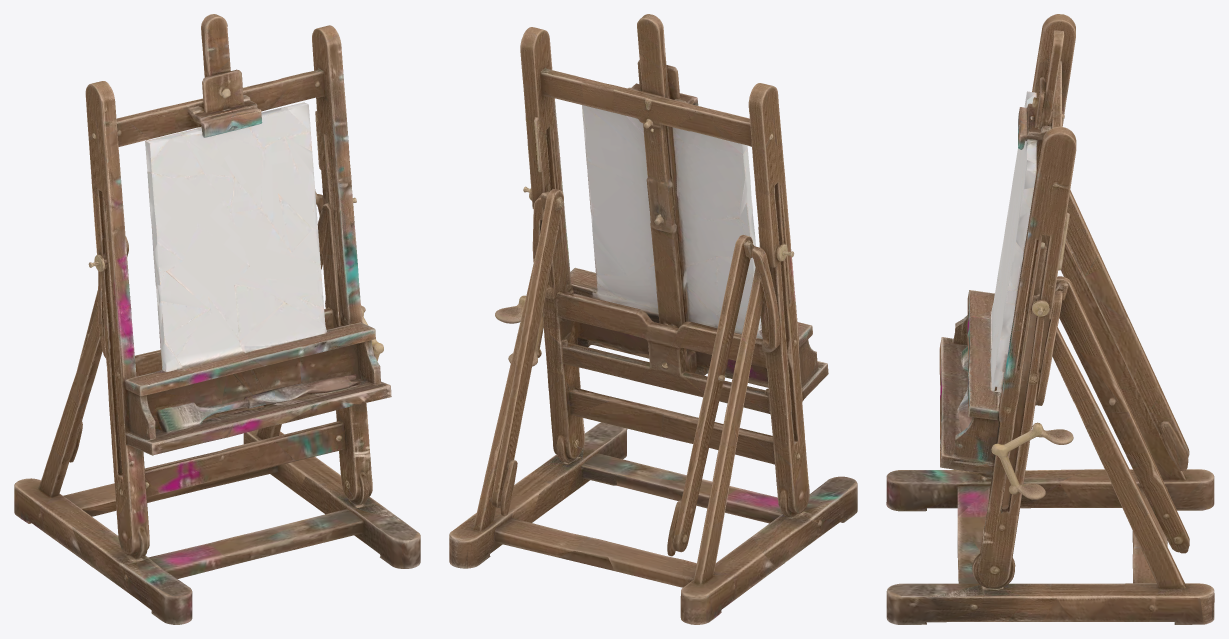
The model's file is easel.glb.
3 views of the same model, side by side, from view 1: azimuth 30°, elevation 25°; view 2: azimuth 150°, elevation 25°; view 3: azimuth 270°, elevation 25° (orthographic). The views are drawn at different scales.
Visible parts, largest first — view 1: Mesh_0; view 2: Mesh_0; view 3: Mesh_0.
Boxes of the visible parts, <box> form: Mesh_0: <box>14,14,420,624</box>; Mesh_0: <box>449,14,857,624</box>; Mesh_0: <box>886,14,1214,624</box>.
Bounding box in the file's own units: 1.09 × 1.9 × 1.07.
Materials: 1 (1 with a texture image).
